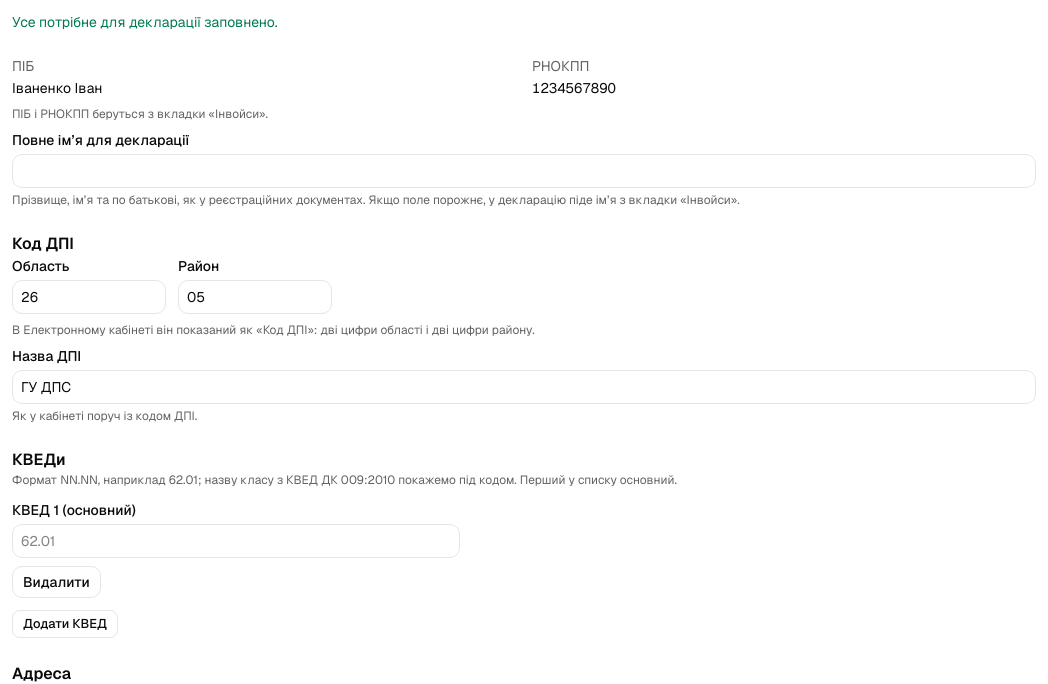
Scenario: DeclarationDetailsForm KVED names in uk › words a code of the right shape that is not a class as the owner types it
Type "12.34" into the field labelled "КВЕД 1 (основний)" at [236, 541], box x1=12 y1=524 x2=460 y2=558
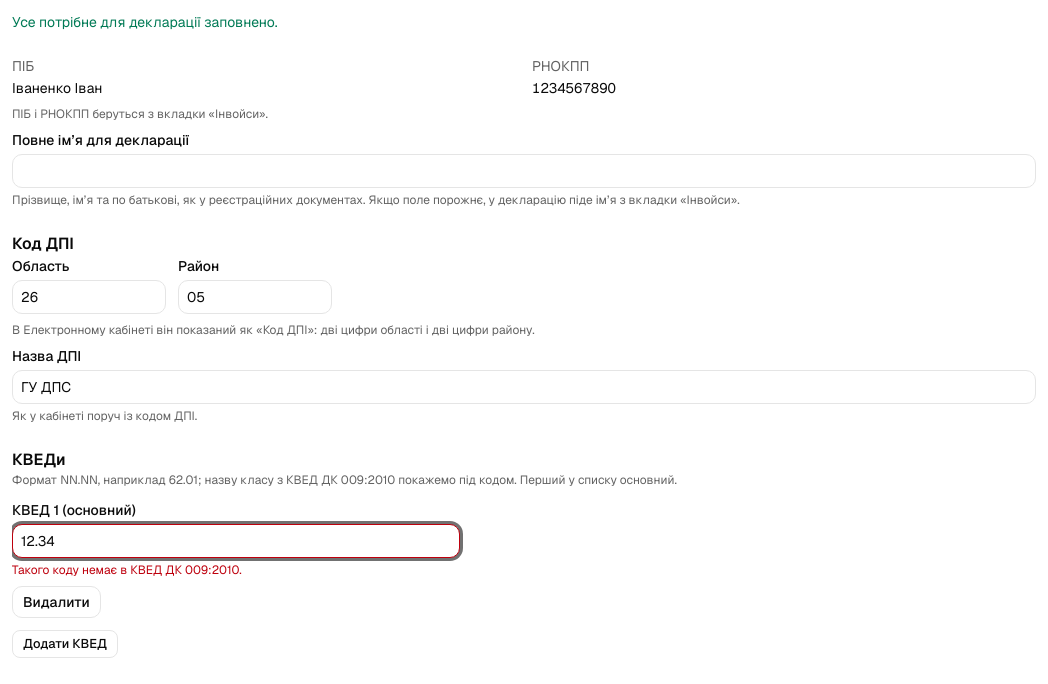
Check: the text "Такого коду немає в КВЕД ДК 009:2010." is shown, box x1=12 y1=562 x2=242 y2=578
